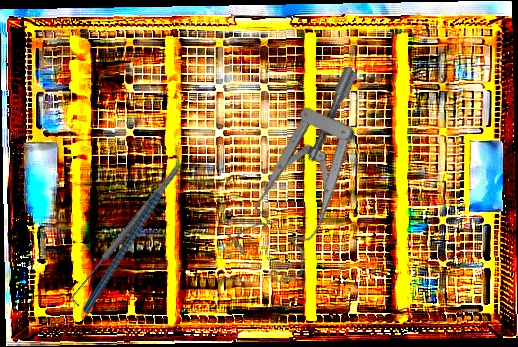Chopper: (38, 143, 225, 315)
Hook Surgical: (65, 164, 187, 308)
Speculum: (195, 63, 432, 296)
